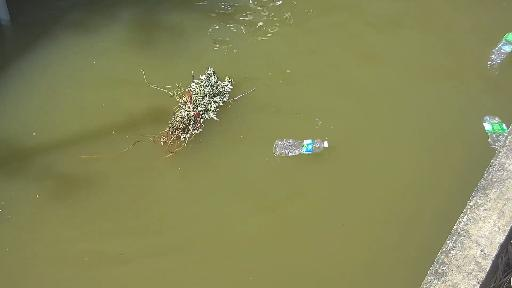plastic: (263, 125, 334, 160), (487, 31, 512, 73), (480, 113, 506, 149)
twig: (105, 52, 278, 160)
